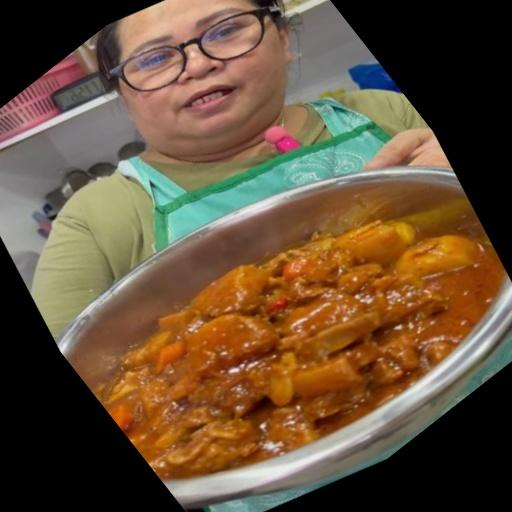pork caldereta: (93, 223, 502, 479)
